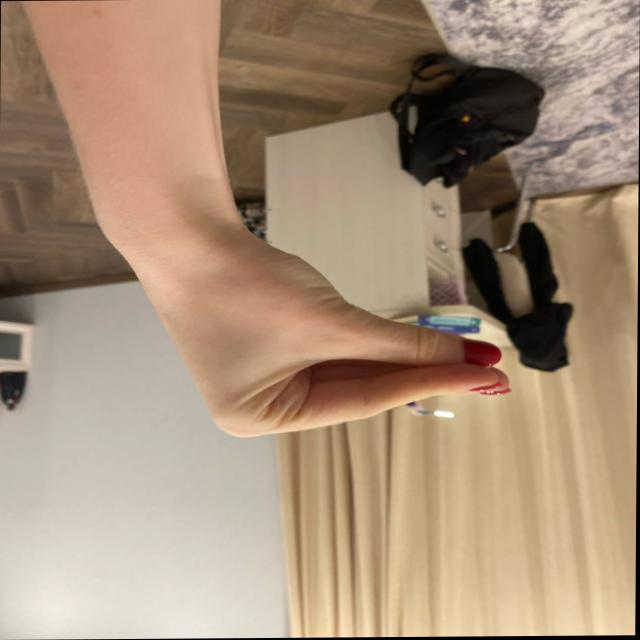zh: (111, 197, 552, 459)
